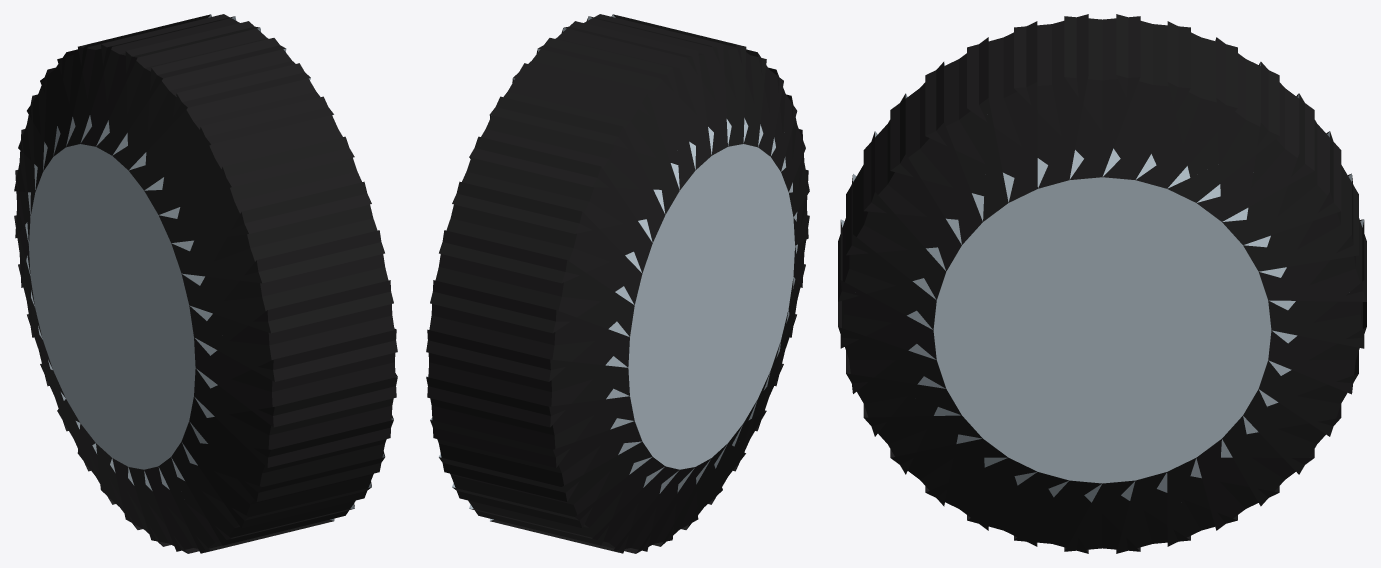
File: Aerion_Regolith_Wheel_Tire_Collider.obj
3 renders of one model, left to right at view 1: azimuth 30°, elevation 25°; view 2: azimuth 150°, elevation 25°; view 3: azimuth 270°, elevation 25°, orthographic.
Parts seen in each view (by area): view 1: Cylinder; view 2: Cylinder; view 3: Cylinder.
Part boxes in pixels (bbox=[...]): Cylinder: bbox=[14, 14, 397, 553]; Cylinder: bbox=[426, 14, 809, 553]; Cylinder: bbox=[838, 14, 1366, 553].
Size of the model in its own units: 0.6652 by 1.6 by 1.6.
